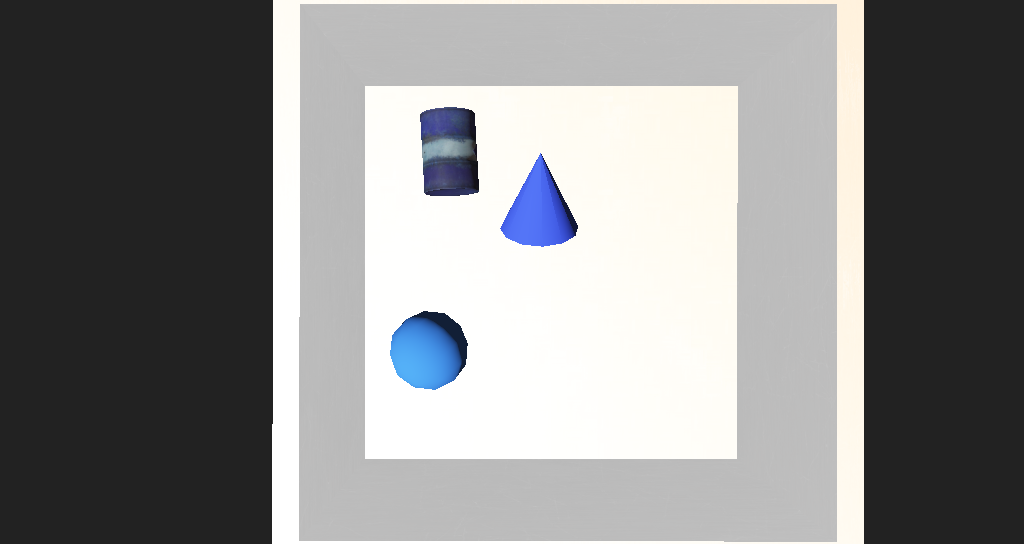cone: (397, 174, 451, 227)
cylinder: (458, 186, 525, 253)
sphere: (381, 293, 441, 336)
